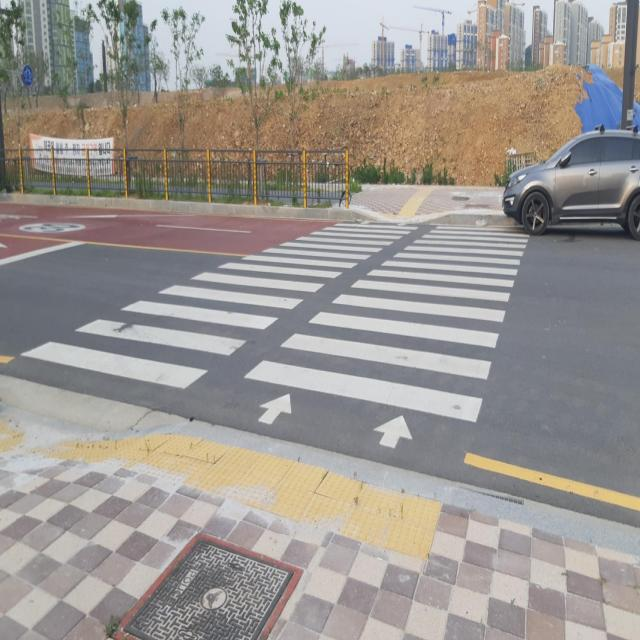횡단보도: (18, 217, 532, 455)
